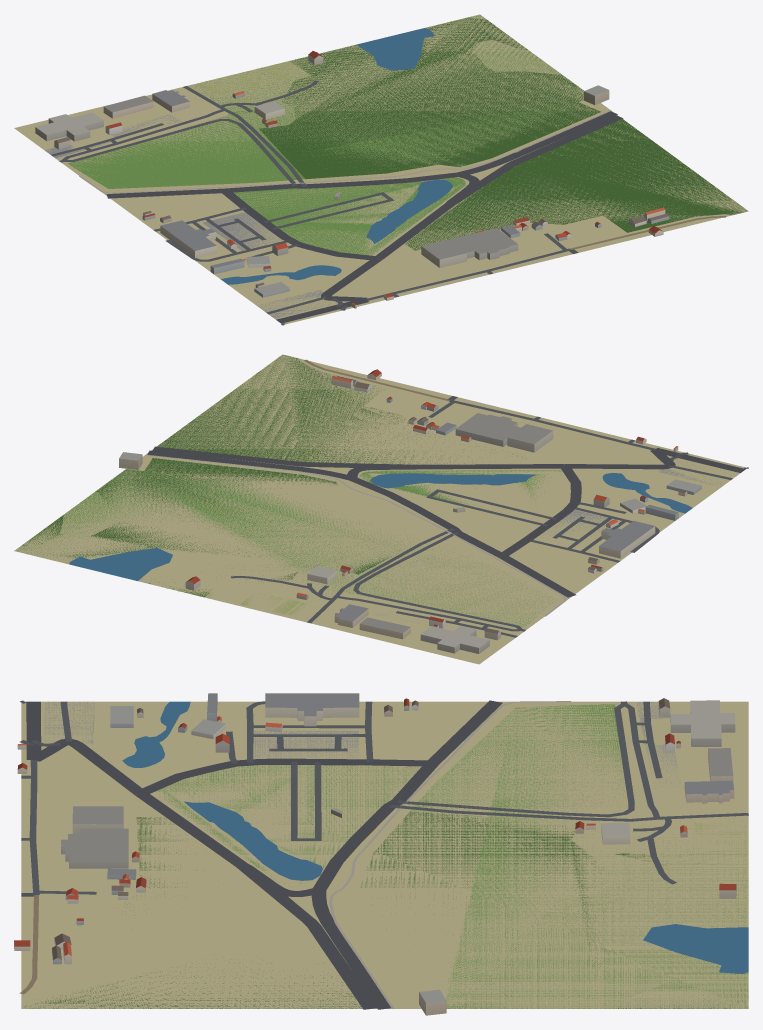
3 renders of one model, top to bottom at view 1: azimuth 30°, elevation 25°; view 2: azimuth 150°, elevation 25°; view 3: azimuth 270°, elevation 25°, orthographic. The views are drawn at different scales.
Visible parts, largest first — view 1: landuse, roads, buildings_roofs, buildings_walls, water; view 2: landuse, roads, buildings_roofs, buildings_walls, water; view 3: landuse, roads, buildings_roofs, water, buildings_walls.
Part boxes in pixels (box(x1,y1,x2,y2)): landuse: box(14, 14, 748, 324); roads: box(51, 80, 726, 325); buildings_roofs: box(36, 51, 668, 305); buildings_walls: box(35, 54, 669, 308); water: box(220, 28, 452, 284); landuse: box(14, 354, 745, 664); roads: box(145, 359, 748, 637); buildings_roofs: box(119, 369, 701, 647); buildings_walls: box(119, 373, 701, 653); water: box(69, 473, 692, 580); landuse: box(21, 701, 748, 1008); roads: box(19, 700, 748, 1009); buildings_roofs: box(14, 693, 736, 1002); water: box(122, 701, 748, 973); buildings_walls: box(14, 697, 736, 1015).
Bounding box in the file's own units: 513 × 9.61 × 505.
